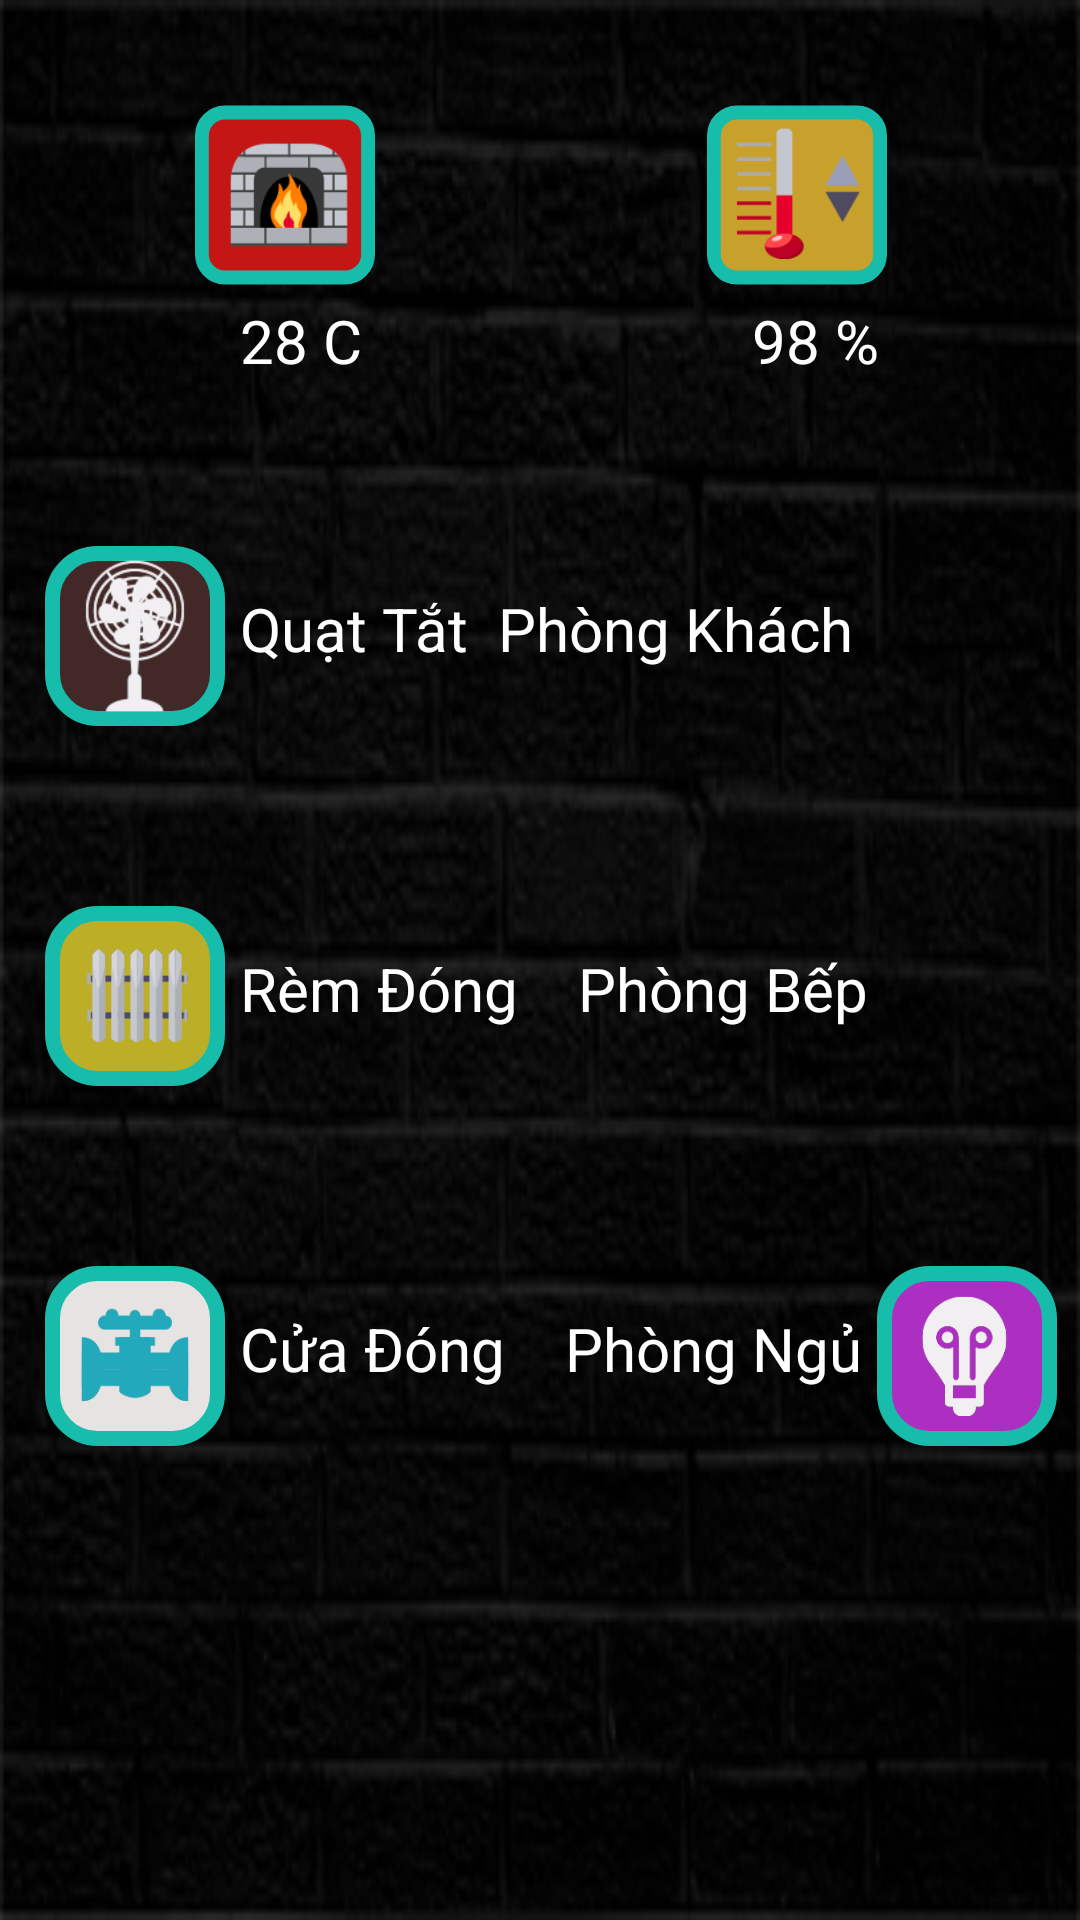

Named icons in this screenshot (1080 x 1920) and their bounding boxes, (x1, y1, x2, y2):
custom nhietdo: (195, 105, 375, 285)
